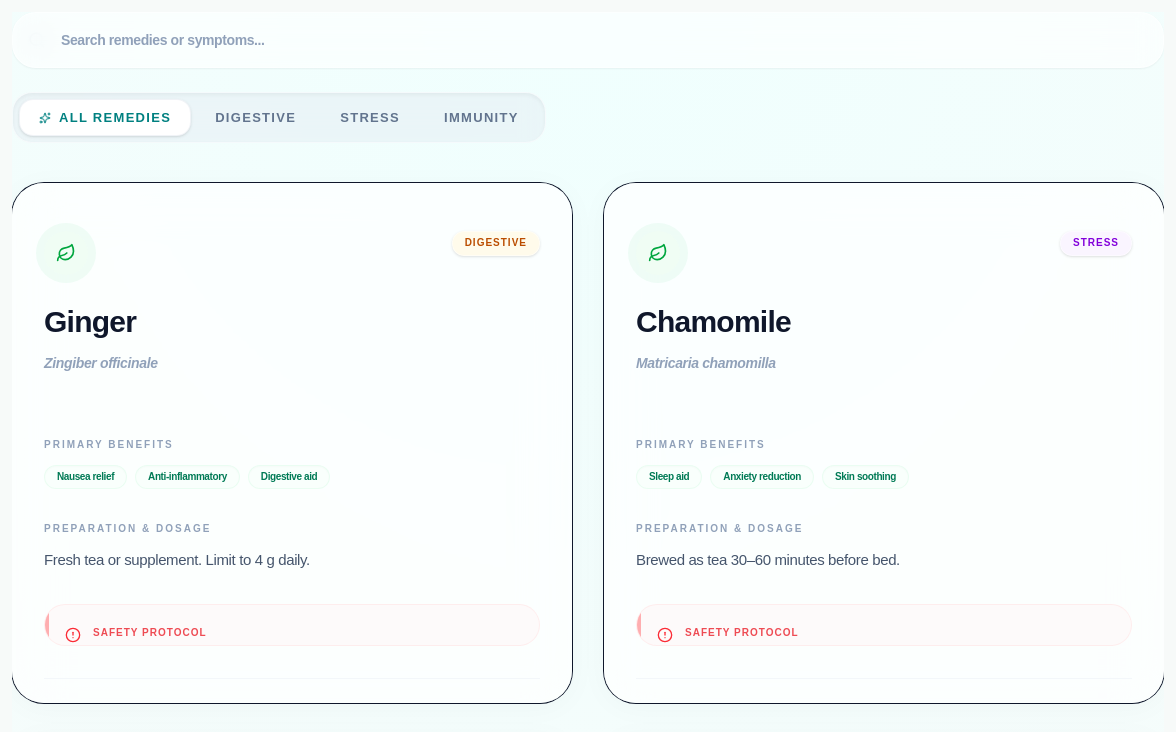
HerbalGuide Component › filters remedies based on search text
The width and height of the screenshot is (1176, 732).
Note: Type 'ginger'
Type "ginger" into the field with placeholder "Search remedies or symptoms..." at (588, 40), box [12,12,1164,68]
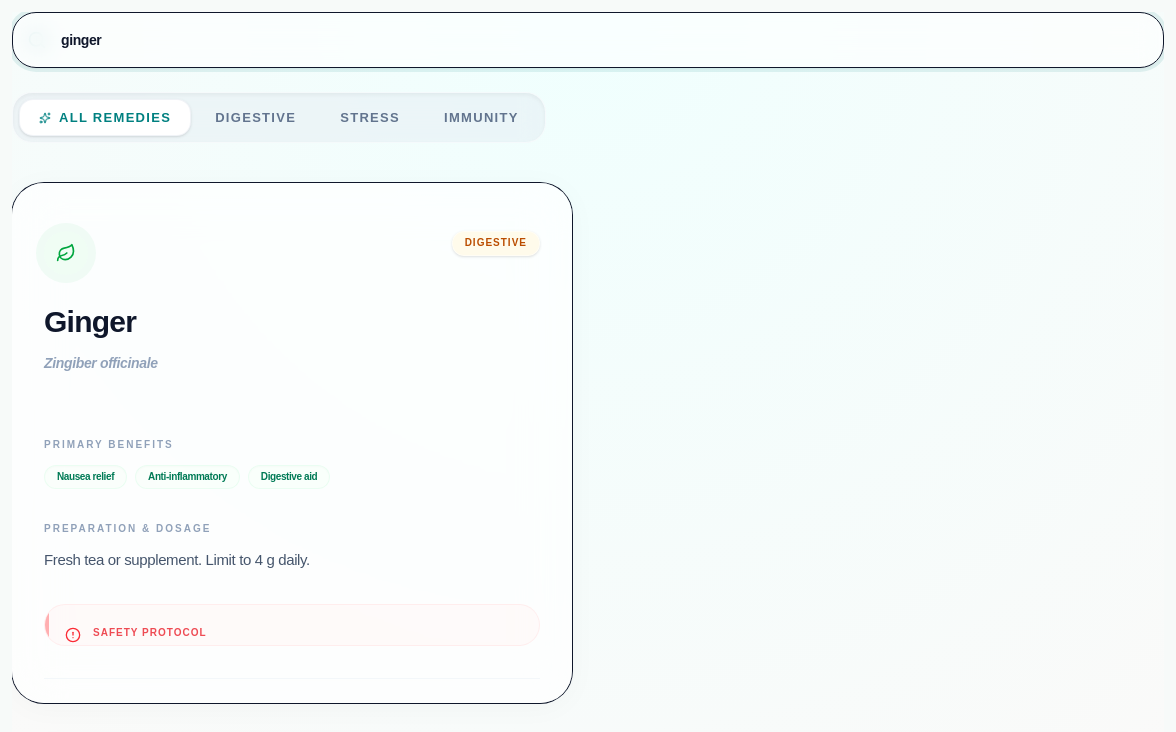
Expected: the text "Ginger" is shown, [44,305,136,338]
Result: the text "Chamomile" is gone
